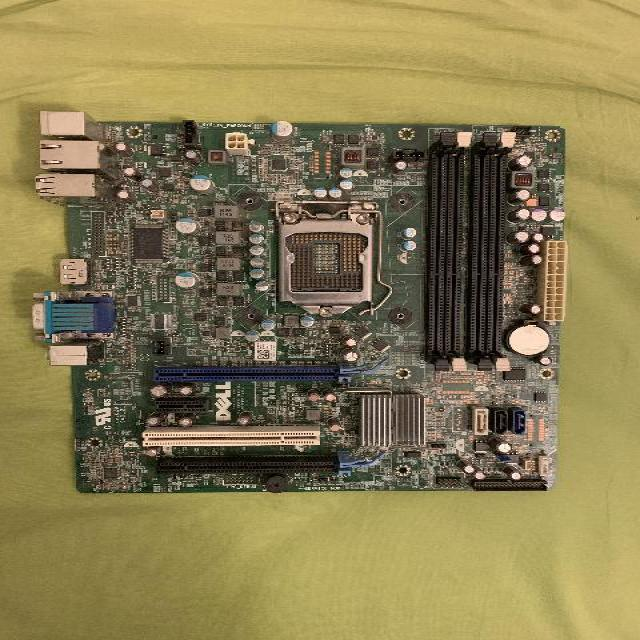Mainboard: (39, 110, 556, 493)
